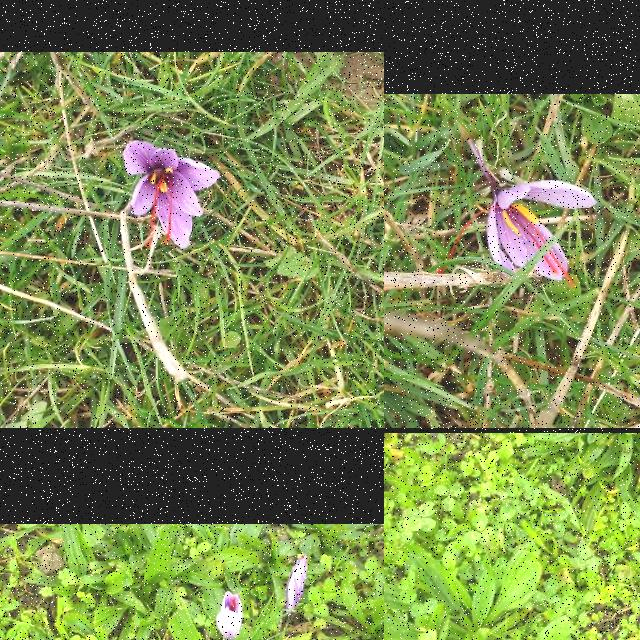flower: (487, 181, 597, 287), (122, 142, 220, 250), (283, 553, 309, 619), (216, 591, 243, 640)
